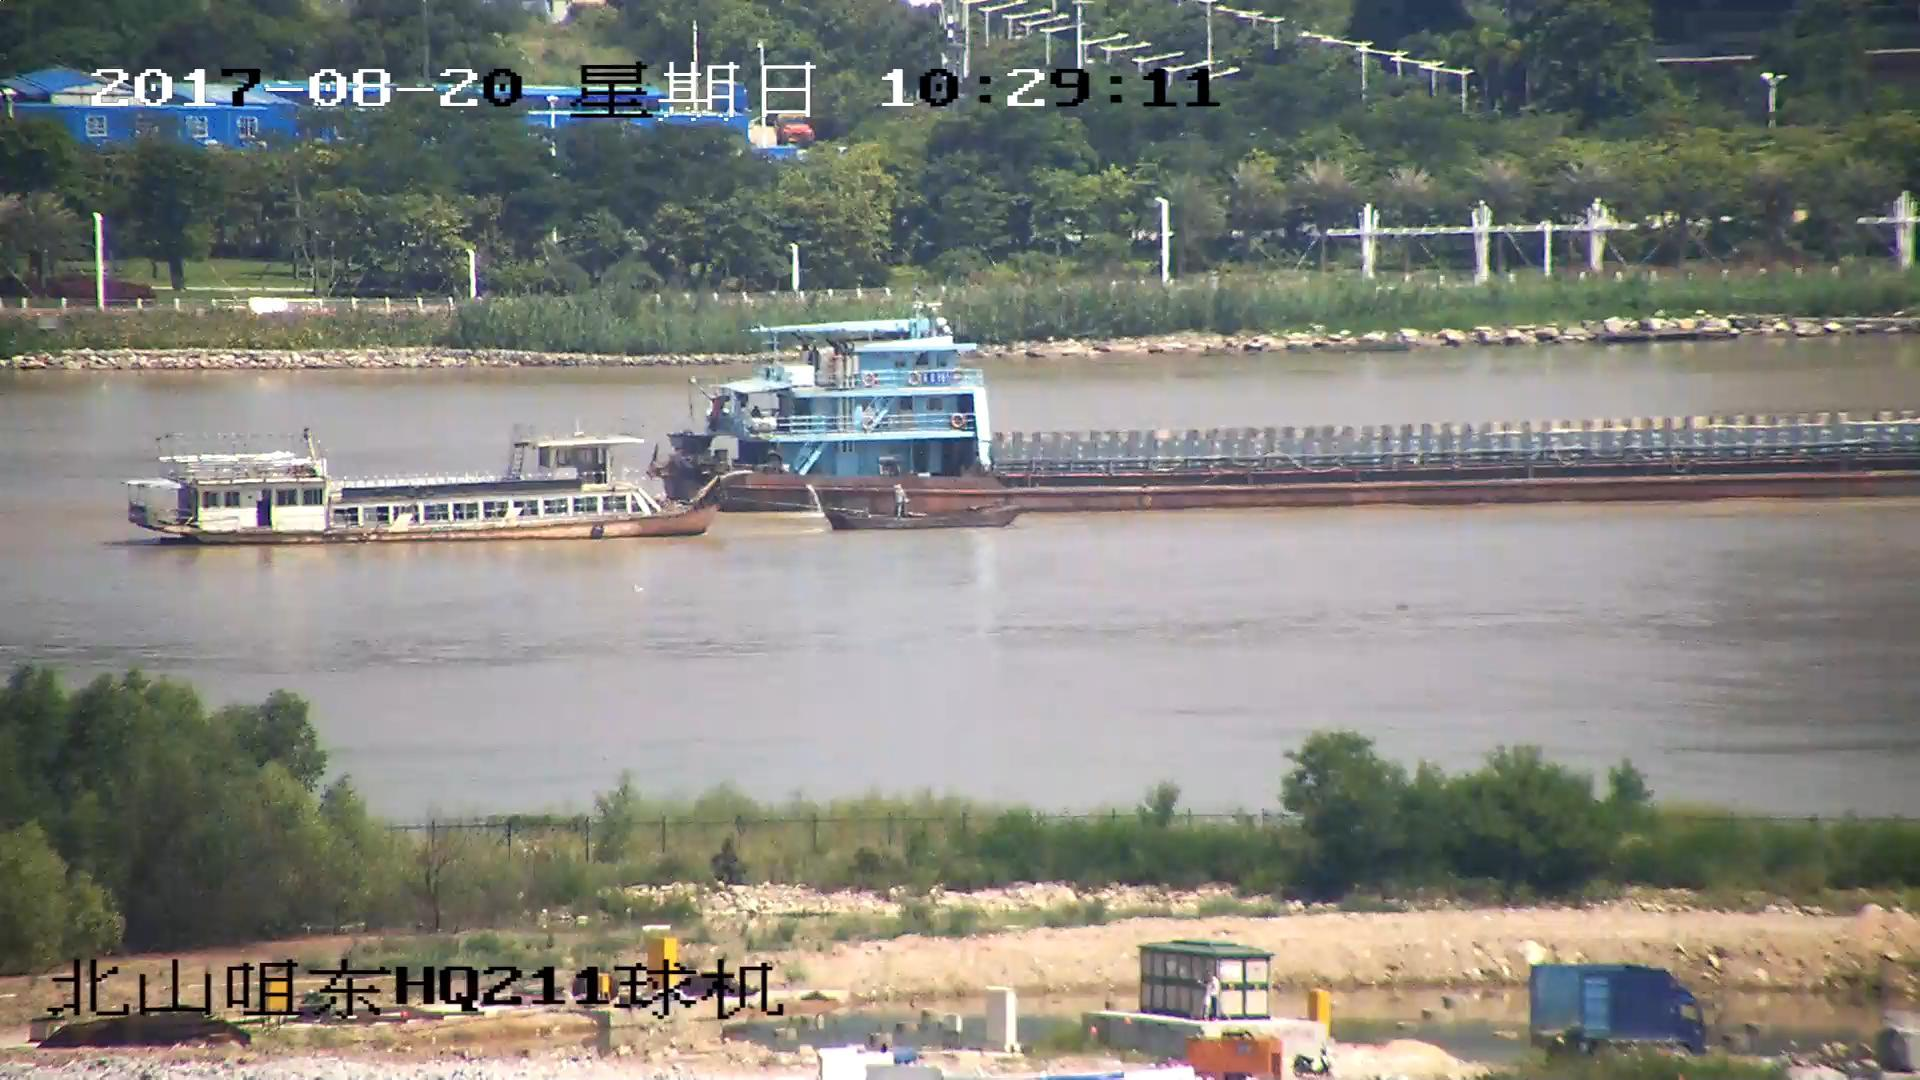Ship: (645, 323, 1920, 513), (117, 425, 720, 547), (825, 485, 1019, 534)
